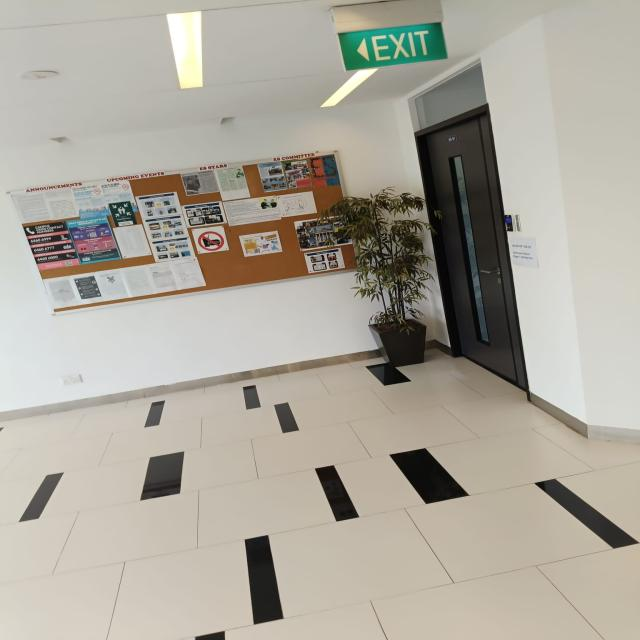Pot: (368, 318, 426, 368)
